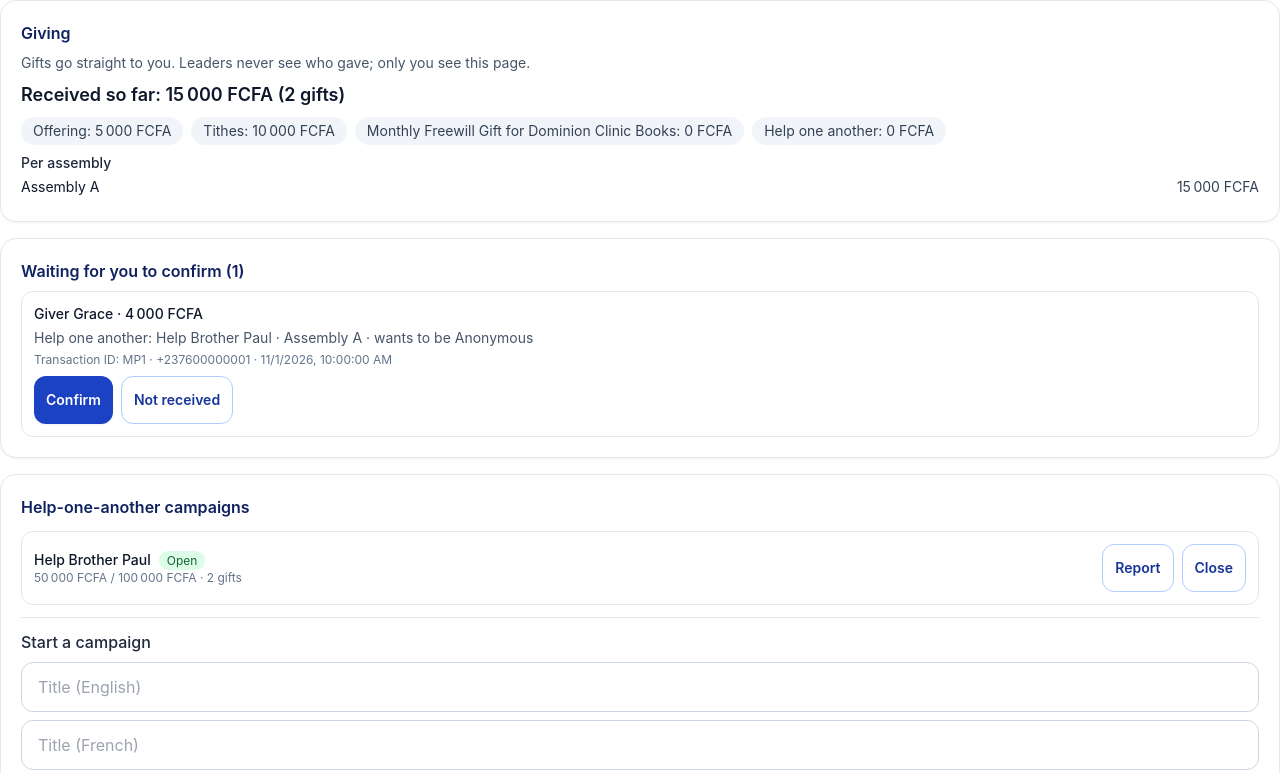
Test: GivingPanel › confirms a gift
What coordinates should you click on to do the following:
click the button "Confirm"
I would click on:
 (73, 400)
Its box is [34,376,113,424].
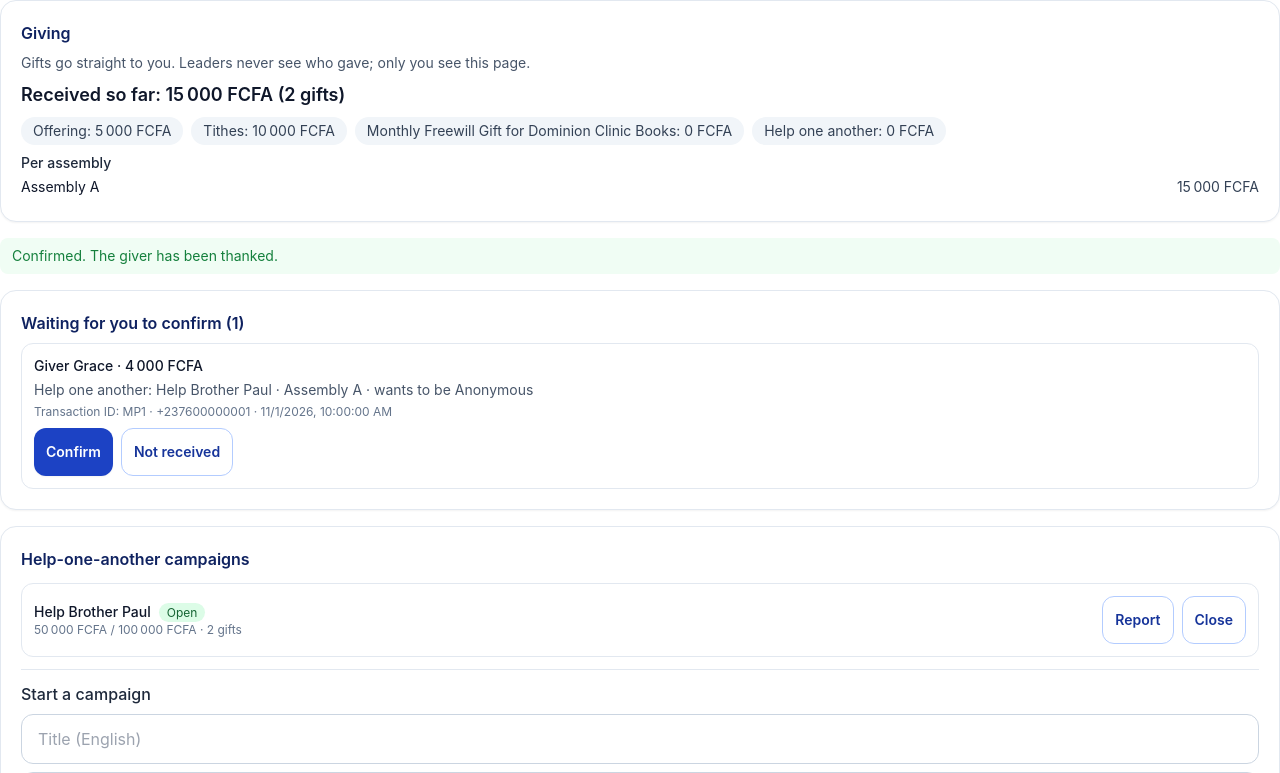
Now the text "Confirmed. The giver has been thanked." is shown, box [0,238,1279,274]
